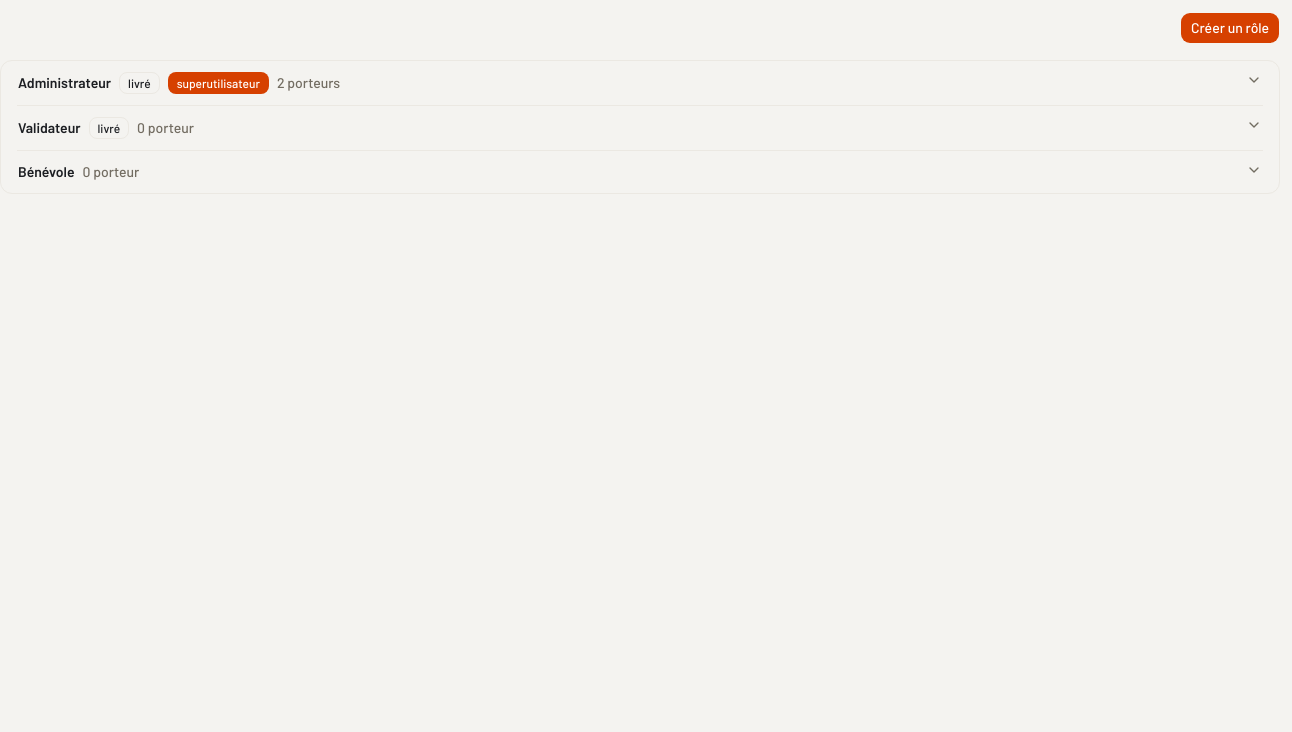
Scenario: RolePermissionsEditor — lecture › liste les rôles avec leur nom, leur description et leur nombre de porteurs
Expected: the button "Administrateur livré superutilisateur 2 porteurs" is shown, x1=17 y1=61 x2=1263 y2=105
Click the button "Validateur livré 0 porteur".
click(49, 128)  # box x1=17 y1=106 x2=1263 y2=150
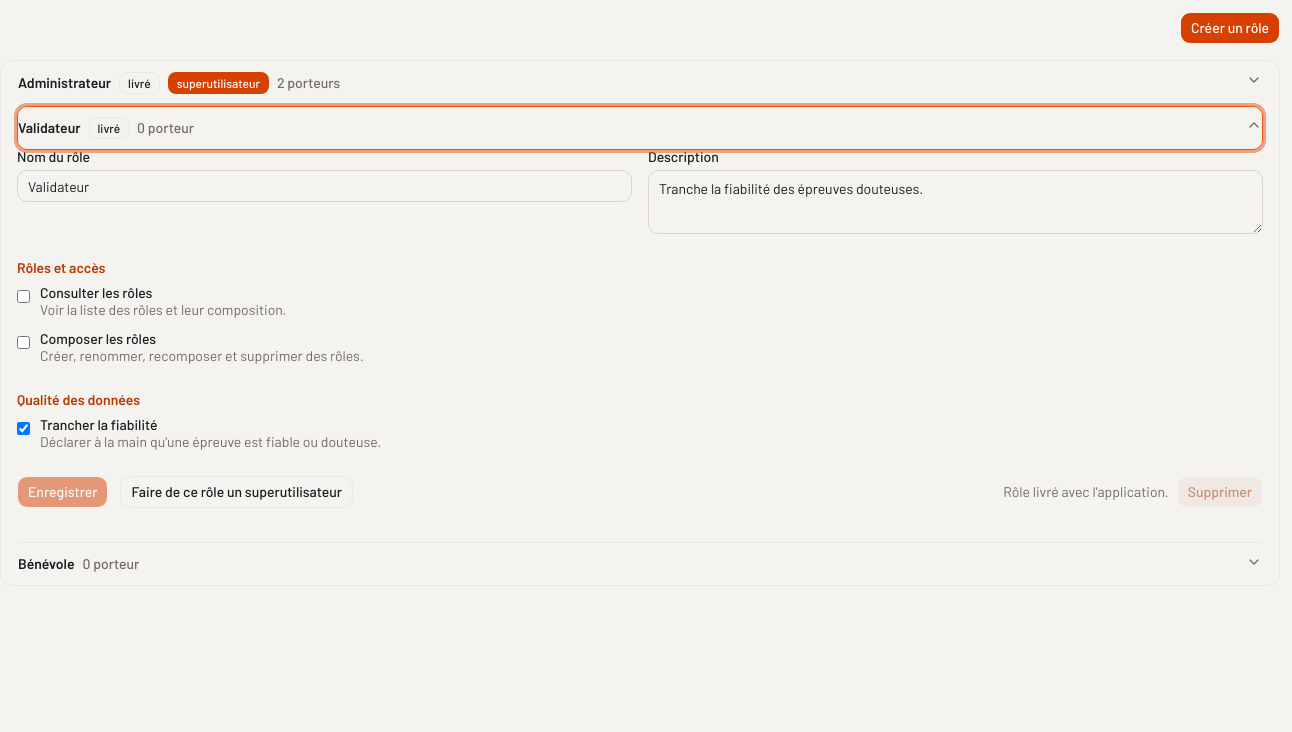
Expected: the text box labelled "Description" holds "Tranche la fiabilité des épreuves douteuses.", x1=648 y1=170 x2=1263 y2=234
